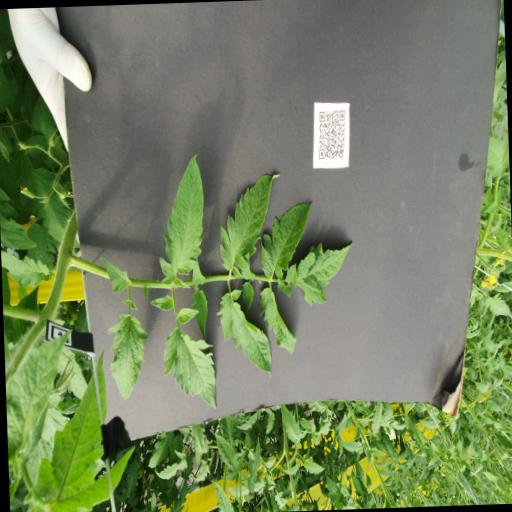Healthy: (27, 348, 109, 512), (2, 328, 76, 454), (154, 153, 206, 289), (216, 173, 282, 277), (40, 445, 136, 512), (214, 288, 271, 380), (160, 324, 216, 410), (257, 200, 314, 280), (294, 240, 352, 308), (106, 312, 149, 402), (258, 287, 296, 356), (0, 247, 48, 288), (100, 256, 130, 295), (145, 429, 173, 469), (278, 404, 306, 442), (152, 449, 186, 480), (188, 288, 208, 340), (214, 430, 236, 473), (210, 476, 232, 512), (482, 292, 510, 316), (233, 410, 260, 431), (190, 422, 207, 454), (240, 280, 253, 316), (369, 401, 382, 437), (336, 439, 363, 455), (334, 410, 352, 434), (190, 257, 204, 287), (278, 458, 299, 478), (350, 468, 364, 498), (302, 458, 324, 476), (175, 307, 198, 324), (379, 432, 394, 458), (148, 295, 172, 311), (282, 262, 296, 288), (402, 408, 413, 438), (324, 471, 337, 494), (352, 457, 363, 483), (482, 200, 498, 216), (472, 378, 490, 392), (418, 418, 436, 431), (413, 424, 424, 445), (264, 412, 274, 434), (370, 446, 386, 458), (486, 399, 500, 412), (466, 439, 474, 457), (429, 440, 437, 454)
